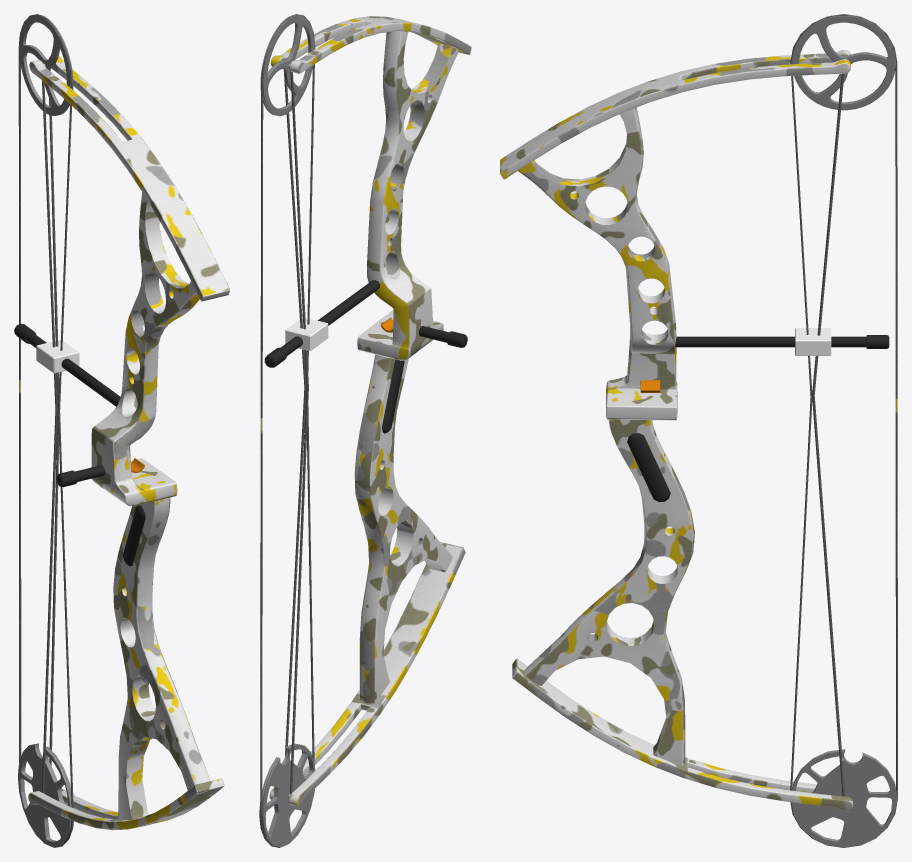
Rendered from bow.obj.
3 renders of one model, left to right at view 1: azimuth 30°, elevation 25°; view 2: azimuth 150°, elevation 25°; view 3: azimuth 270°, elevation 25°, orthographic.
Parts seen in each view (by area): view 1: pCube7_Mesh.002, pCube11_Mesh.001, pCube14_Mesh.001, pTorus3_Mesh.001, pCube3_Mesh.001, pCylinder11_Mesh.001, pCylinder8_Mesh.001, pCylinder4_Mesh.001, pCylinder9_Mesh.001, pCylinder7_Mesh.001, pCube13_Mesh.001, pCube8_Mesh.001 (+1 smaller); view 2: pCube11_Mesh.001, pCube7_Mesh.002, pCube3_Mesh.001, pTorus3_Mesh.001, pCube14_Mesh.001, pCylinder11_Mesh.001, pCylinder8_Mesh.001, pCylinder4_Mesh.001, pCylinder9_Mesh.001, pCylinder7_Mesh.001, pCube13_Mesh.001, pCube8_Mesh.001 (+1 smaller); view 3: pCube7_Mesh.002, pCube11_Mesh.001, pCube14_Mesh.001, pCube3_Mesh.001, pCylinder11_Mesh.001, pTorus3_Mesh.001, pCylinder4_Mesh.001, pCylinder9_Mesh.001, pCylinder7_Mesh.001, pCube8_Mesh.001, pCube13_Mesh.001.
Part boxes in pixels (x1=…): pCube7_Mesh.002: x1=113, y1=497, x2=210, y2=820; pCube11_Mesh.001: x1=91, y1=192, x2=199, y2=506; pCube14_Mesh.001: x1=29, y1=55, x2=230, y2=301; pTorus3_Mesh.001: x1=18, y1=14, x2=73, y2=847; pCube3_Mesh.001: x1=28, y1=778, x2=224, y2=830; pCylinder11_Mesh.001: x1=18, y1=743, x2=73, y2=847; pCylinder8_Mesh.001: x1=41, y1=80, x2=57, y2=793; pCylinder4_Mesh.001: x1=19, y1=15, x2=73, y2=115; pCylinder9_Mesh.001: x1=49, y1=70, x2=59, y2=765; pCylinder7_Mesh.001: x1=14, y1=323, x2=120, y2=406; pCube13_Mesh.001: x1=36, y1=339, x2=79, y2=373; pCube8_Mesh.001: x1=123, y1=505, x2=145, y2=566; pCube11_Mesh.001: x1=357, y1=31, x2=458, y2=360; pCube7_Mesh.002: x1=354, y1=354, x2=452, y2=703; pCube3_Mesh.001: x1=269, y1=542, x2=465, y2=806; pTorus3_Mesh.001: x1=260, y1=14, x2=315, y2=847; pCube14_Mesh.001: x1=270, y1=16, x2=471, y2=73; pCylinder11_Mesh.001: x1=259, y1=743, x2=315, y2=847; pCylinder8_Mesh.001: x1=289, y1=71, x2=308, y2=794; pCylinder4_Mesh.001: x1=260, y1=15, x2=314, y2=116; pCylinder9_Mesh.001: x1=284, y1=74, x2=306, y2=755; pCylinder7_Mesh.001: x1=264, y1=280, x2=379, y2=367; pCube13_Mesh.001: x1=285, y1=317, x2=328, y2=351; pCube8_Mesh.001: x1=382, y1=359, x2=404, y2=433; pCube7_Mesh.002: x1=524, y1=419, x2=694, y2=766; pCube11_Mesh.001: x1=518, y1=107, x2=677, y2=420; pCube14_Mesh.001: x1=500, y1=50, x2=850, y2=179; pCube3_Mesh.001: x1=512, y1=658, x2=853, y2=811; pCylinder11_Mesh.001: x1=791, y1=749, x2=897, y2=847; pTorus3_Mesh.001: x1=790, y1=14, x2=897, y2=847; pCylinder4_Mesh.001: x1=792, y1=15, x2=895, y2=110; pCylinder9_Mesh.001: x1=812, y1=74, x2=844, y2=796; pCylinder7_Mesh.001: x1=675, y1=335, x2=889, y2=348; pCube8_Mesh.001: x1=627, y1=433, x2=670, y2=501; pCube13_Mesh.001: x1=795, y1=328, x2=831, y2=355.
Size of the model in its own units: 0.2317 by 1.9 by 0.8224.
1 material, 1 textured.
